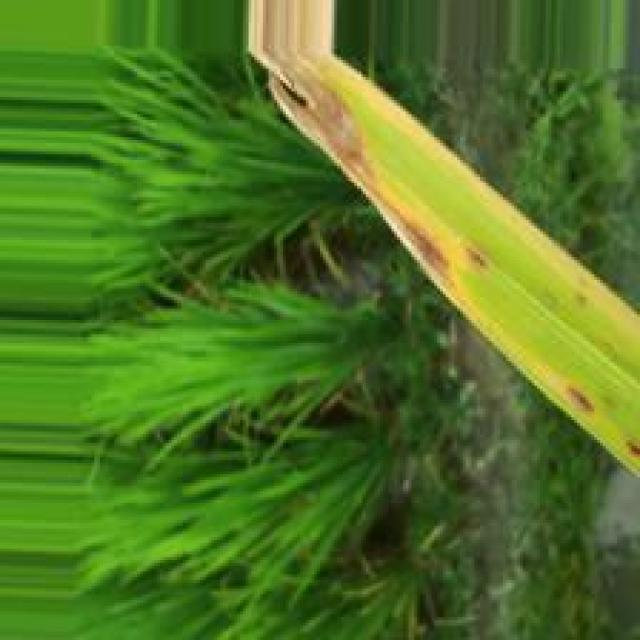Narrow_Brown_Leaf_Spot: (245, 43, 493, 323), (564, 381, 597, 420)
